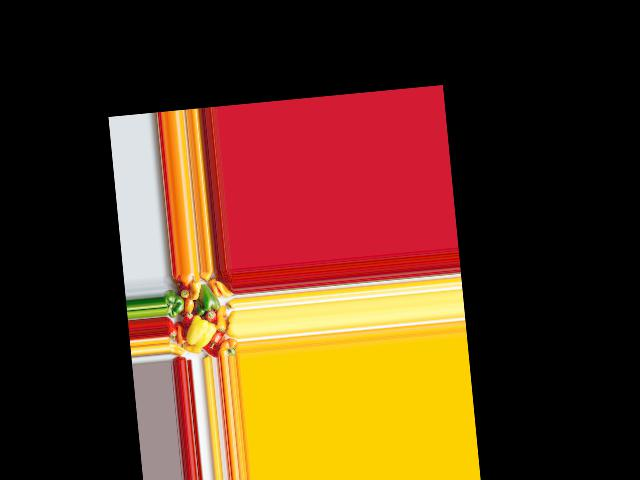bell_pepper: (165, 318, 180, 341)
